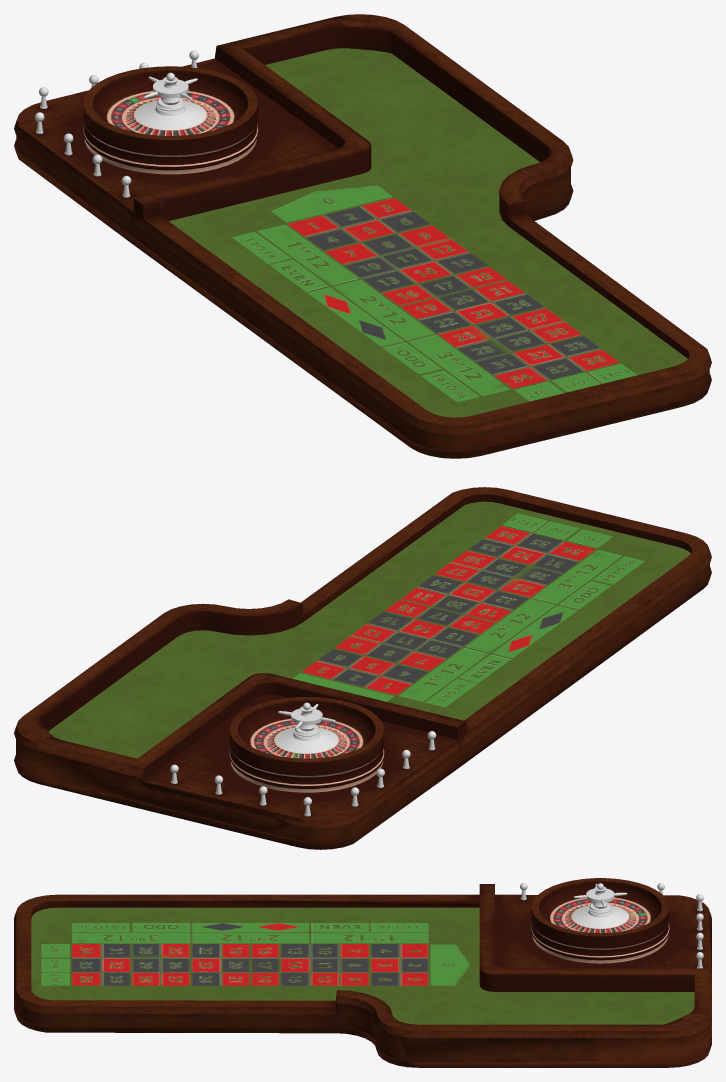
File: table v1.glb
3 views of the same model, one above another, from view 1: azimuth 30°, elevation 25°; view 2: azimuth 150°, elevation 25°; view 3: azimuth 270°, elevation 25° (orthographic). The views are drawn at different scales.
Parts seen in each view (by area): view 1: polySurface36, polySurface35.001, polySurface35.002; view 2: polySurface36, polySurface35.001, polySurface35.002; view 3: polySurface36, polySurface35.001, polySurface35.002.
Part boxes in pixels (x1,y1,x2,y2): polySurface36: (14, 14, 711, 458); polySurface35.001: (83, 66, 258, 174); polySurface35.002: (107, 72, 234, 135); polySurface36: (14, 487, 711, 849); polySurface35.001: (229, 697, 384, 792); polySurface35.002: (250, 702, 362, 758); polySurface36: (14, 883, 711, 1067); polySurface35.001: (531, 878, 669, 963); polySurface35.002: (550, 883, 650, 933).
Bounding box in the file's own units: 1.02 × 0.2469 × 2.02.
2 materials, 1 textured.
